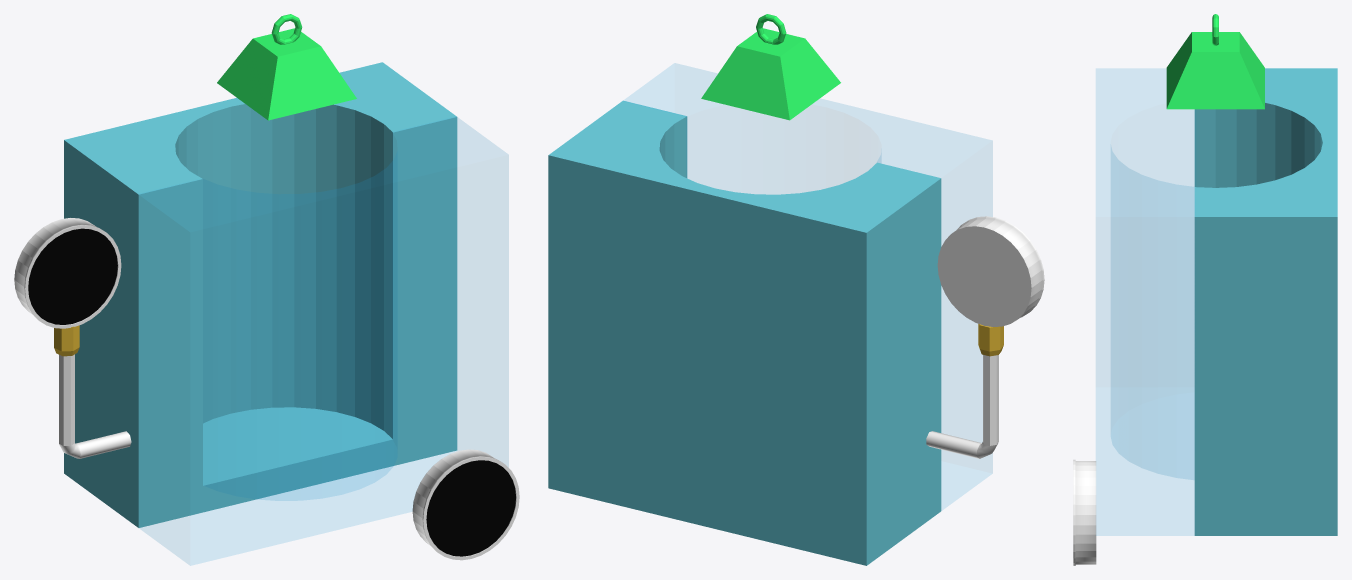
The model's file is Boyles2.fbx.
3 views of the same model, side by side, from view 1: azimuth 30°, elevation 25°; view 2: azimuth 150°, elevation 25°; view 3: azimuth 270°, elevation 25° (orthographic). The views are drawn at different scales.
Parts seen in each view (by area): view 1: Back Container, Front Container, Temp Gauge, Pressure Gauge, Weight, Tube; view 2: Back Container, Front Container, Pressure Gauge, Weight, Tube; view 3: Back Container, Front Container, Weight, Temp Gauge.
Boxes of the visible parts, bbox=[...] form: Back Container: bbox=[64, 62, 457, 527]; Front Container: bbox=[140, 118, 508, 565]; Temp Gauge: bbox=[412, 449, 519, 560]; Pressure Gauge: bbox=[14, 218, 121, 328]; Weight: bbox=[217, 14, 356, 120]; Tube: bbox=[54, 325, 131, 458]; Back Container: bbox=[548, 100, 941, 565]; Front Container: bbox=[624, 63, 992, 509]; Pressure Gauge: bbox=[937, 216, 1044, 326]; Weight: bbox=[701, 14, 840, 120]; Tube: bbox=[926, 324, 1003, 458]; Back Container: bbox=[1194, 68, 1337, 535]; Front Container: bbox=[1096, 69, 1194, 535]; Weight: bbox=[1166, 14, 1264, 109]; Temp Gauge: bbox=[1073, 459, 1096, 565].
Size of the model in its own units: 960 by 1108 by 537.
